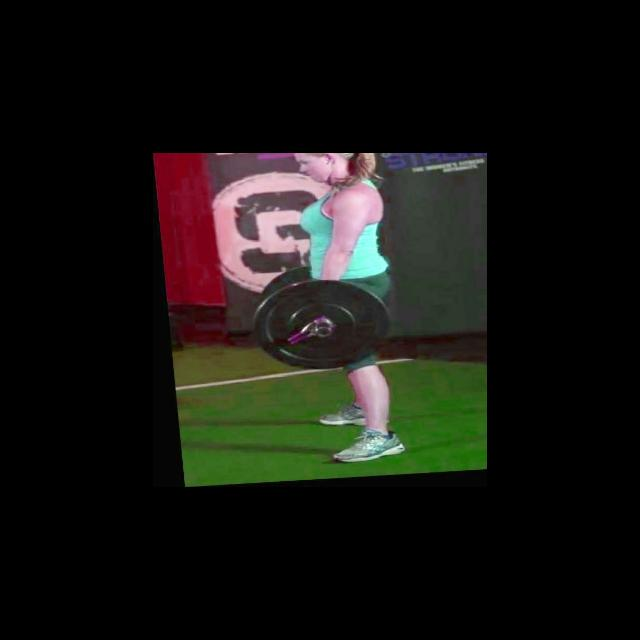barbell: (243, 274, 391, 378)
